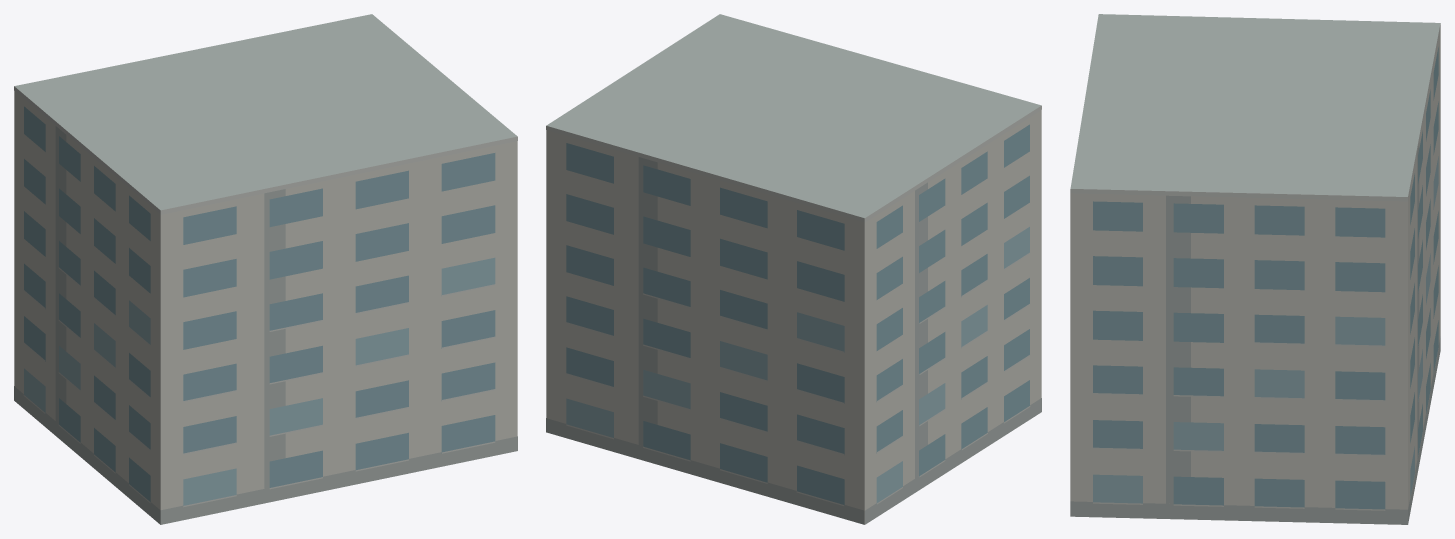
File: survey-upis-32950755.glb
3 views of the same model, side by side, from view 1: azimuth 30°, elevation 25°; view 2: azimuth 150°, elevation 25°; view 3: azimuth 270°, elevation 25° (orthographic). The views are drawn at different scales.
Parts seen in each view (by area): view 1: survey-upis-32950755.tmp; view 2: survey-upis-32950755.tmp; view 3: survey-upis-32950755.tmp.
Part boxes in pixels (x1,y1,x2,y2): survey-upis-32950755.tmp: (14,14,517,524); survey-upis-32950755.tmp: (546,14,1041,524); survey-upis-32950755.tmp: (1070,14,1440,524).
Bounding box in the file's own units: 20.85 × 17.4 × 17.81.
